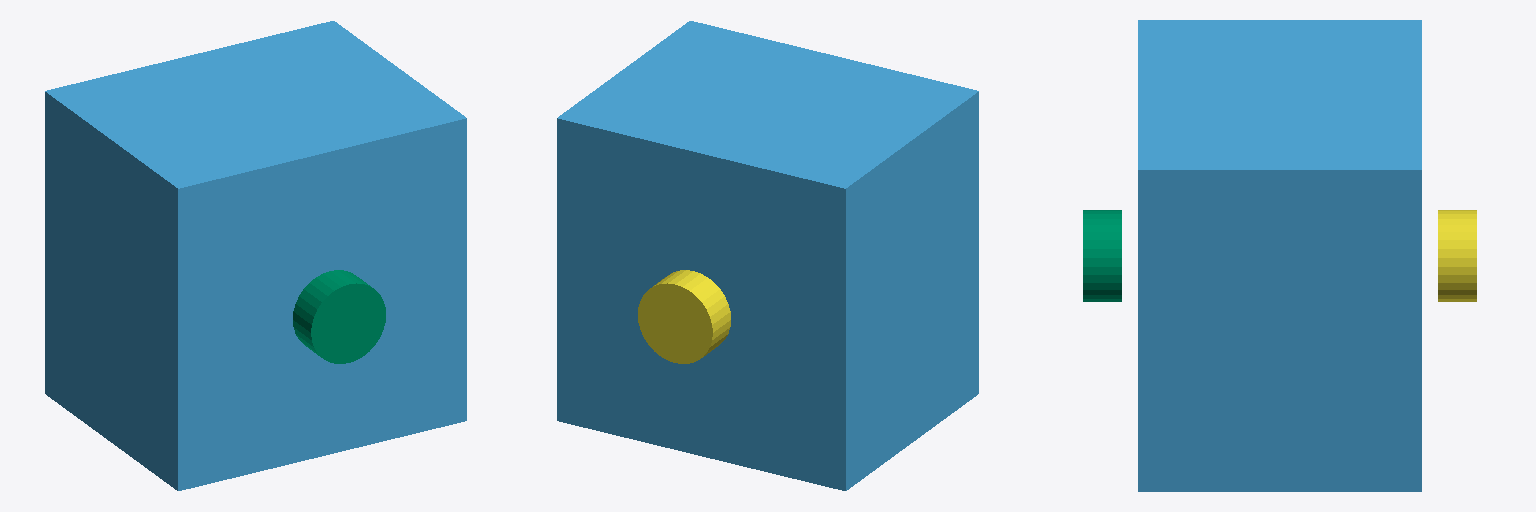
URDF robot description (bot):
<?xml version="1.0"?>
<robot name="bot">
    <gazebo>
        <plugin name="gazebo_ros_control" filename="libgazebo_ros_control.so">
            <robotNamespace>bot</robotNamespace>
            <robotSimType>gazebo_ros_control/DefaultRobotHWSim</robotSimType>
            <legacyModeNS>true</legacyModeNS>
        </plugin>
    </gazebo>
<!--links-->

    <link name="base_footprint">
        <origin xyz="0.0 0.0 0.0" rpy="0.0 0.0 0.0"/>
    </link>
    <link name="base_link">
        <visual >
            <origin xyz="0.0 0.0 0.0" rpy="0.0 0.0 0.0"/>
            <geometry>
                <box size="0.5 0.4 0.5"/>
            </geometry>
        </visual>
        <collision>
            <origin xyz="0.0 0.0 0.0" rpy="0.0 0.0 0.0"/>
            <geometry>
                <box size="0.5 0.4 0.5"/>
            </geometry>
        </collision>
        <inertial>
            <origin xyz="0.0 0.0 0.0" rpy="0.0 0.0 0.0"/>
            <mass value="2.78"/>
            <inertia ixx="0.0290046666667" ixy="0.0" ixz="0.0" iyy="0.022153125" iyz="0.0" izz="0.0244697916667"/>
        </inertial>
    </link>
    
    <link name="RFW_link">
        <visual >
            <origin xyz="0.0 0.0 0.0" rpy="0.0 1.5707 1.5707"/>
            <geometry>
                <cylinder radius="0.065" length="0.055"/>
            </geometry>
        </visual>
        <collision>
            <origin xyz="0.0 0.0 0.0" rpy="0.0 1.5707 1.5707"/>
            <geometry>
                <cylinder radius="0.065" length="0.055"/>
            </geometry>
        </collision>
        <inertial>
            <origin xyz="0.0 0.0 0.0" rpy="0.0 1.5707 1.5707"/>
            <mass value="0.156"/>
            <inertia ixx="0.000211575" ixy="0.0" ixz="0.0" iyy="0.000211575" iyz="0.0" izz="0.00032955"/>
        </inertial>
    </link>
    <link name="LFW_link">
        <visual >
            <origin xyz="0.0 0.0 0.0" rpy="0.0 1.5707 1.5707"/>
            <geometry>
                <cylinder radius="0.065" length="0.055"/>
            </geometry>
        </visual>
        <collision>
            <origin xyz="0.0 0.0 0.0" rpy="0.0 1.5707 1.5707"/>
            <geometry>
                <cylinder radius="0.065" length="0.055"/>
            </geometry>
        </collision>
        <inertial>
            <origin xyz="0.0 0.0 0.0" rpy="0.0 1.5707 1.5707"/>
            <mass value="0.156"/>
            <inertia ixx="0.000211575" ixy="0.0" ixz="0.0" iyy="0.000211575" iyz="0.0" izz="0.00032955"/>
        </inertial>
    </link>
    
<!--joints-->
    <joint name="base_joint" type="fixed">
        <origin xyz="0.0 0.0 0.0" rpy="0.0 0.0 0"/>
        <parent link="base_footprint"/>
        <child link="base_link"/>
    </joint>
    <joint name="LFW_joint" type="continuous">
        <origin xyz=" 0.0 0.25 0.0" rpy="0.0 0.0 0.0"/>
        <parent link="base_link"/>
        <child link="LFW_link"/>
        <axis xyz="0.0 1.0 0.0"/>
        <!-- <limit effort="100" velocity="100"/>  -->
    </joint>
    <joint name="RFW_joint" type="continuous">
        <origin xyz="0.0 -0.25  0.0" rpy="0.0 0.0 0.0"/>
        <parent link="base_link"/>
        <child link="RFW_link"/>
        <axis xyz="0.0 1.0 0.0"/>
        <!-- <limit effort="100" velocity="100"/>  -->
    </joint>


<!--gazebo plugins-->
    <gazebo reference="RFW_link">
        <mu1>20000000000.0</mu1>
	    <mu2>20000000000.0</mu2>
	    <kp>1000000.0</kp>
	    <kd>1.0</kd>
	    <material>Gazebo/Black</material>
	</gazebo>
    <gazebo reference="LFW_link">
        <mu1>20000000000.0</mu1>
	    <mu2>20000000000.0</mu2>
	    <kp>1000000.0</kp>
	    <kd>1.0</kd>
	    <material>Gazebo/Black</material>
	</gazebo>
    <gazebo reference="base_link">
	    <material>Gazebo/Orange</material>
	</gazebo>
<!--transmissions-->
    <transmission name="RFW_transmission">
        <type>transmission_interface/SimpleTransmission</type>
        <joint name="RFW_joint">
            <hardwareInterface>hardware_interface/EffortJointInterface</hardwareInterface>  
        </joint>
        <actuator name="RFW_actuator">
            <mechanicalReduction>1</mechanicalReduction>
            <hardwareInterface>hardware_interface/EffortJointInterface</hardwareInterface>
        </actuator>
    </transmission>

    <transmission name="LFW_transmission">
        <type>transmission_interface/SimpleTransmission</type>
        <joint name="LFW_joint">
            <hardwareInterface>hardware_interface/EffortJointInterface</hardwareInterface>  
        </joint>
        <actuator name="LFW_actuator">
            <mechanicalReduction>1</mechanicalReduction>
            <hardwareInterface>hardware_interface/EffortJointInterface</hardwareInterface>
        </actuator>
    </transmission>

    

</robot>

--- Facts derived from the render (not from the file) ---
Views: 3 orthographic renders of the robot side by side, from view 1: azimuth 30°, elevation 25°; view 2: azimuth 150°, elevation 25°; view 3: azimuth 270°, elevation 25°.
Robot: bot — 4 links, 3 joints (2 continuous, 1 fixed); root link base_footprint; default pose: every joint at zero.
Links seen in each view (by area): view 1: base_link, RFW_link; view 2: base_link, LFW_link; view 3: base_link, RFW_link, LFW_link.
Link boxes in pixels (box(x1,y1,x2,y2)): base_link: box(45, 21, 466, 490); RFW_link: box(293, 270, 385, 363); base_link: box(557, 21, 978, 490); LFW_link: box(638, 270, 730, 363); base_link: box(1138, 20, 1421, 491); RFW_link: box(1083, 210, 1121, 301); LFW_link: box(1438, 210, 1476, 301).
Bounding box of the posed robot: 0.5 × 0.555 × 0.5 m (x, y, z).
Geometry: primitives only (box / cylinder / sphere), no mesh files.